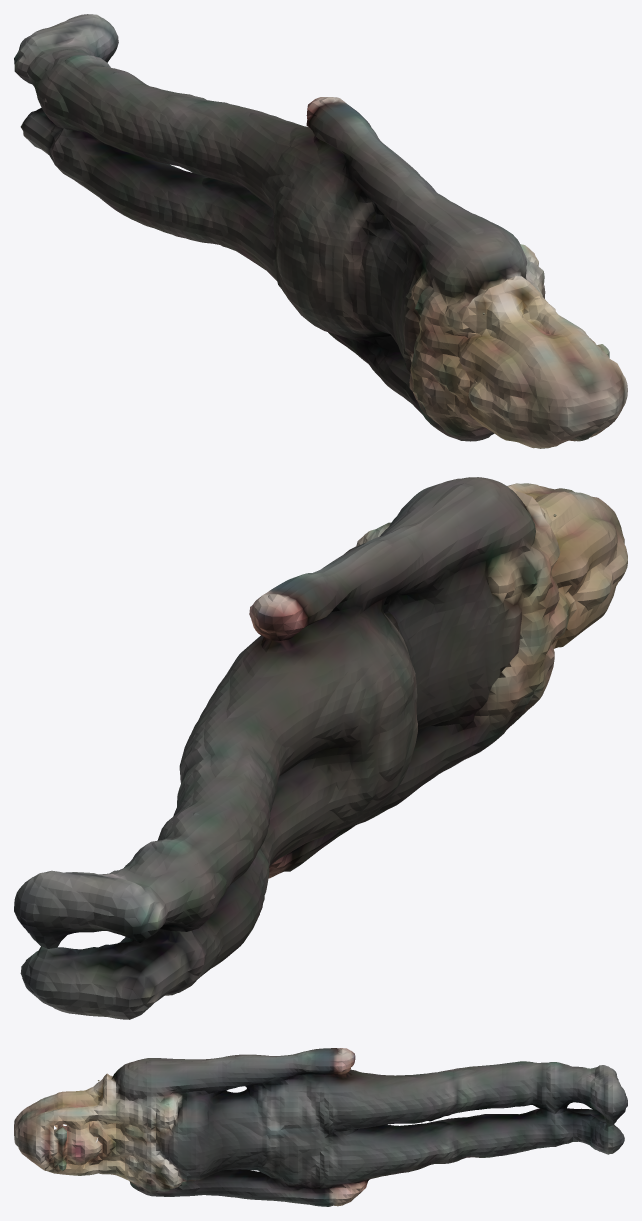
Rendered from avatar.glb.
3 renders of one model, top to bottom at view 1: azimuth 30°, elevation 25°; view 2: azimuth 150°, elevation 25°; view 3: azimuth 270°, elevation 25°, orthographic. The views are drawn at different scales.
Visible parts, largest first — view 1: world; view 2: world; view 3: world.
Part boxes in pixels (box(x1,y1,x2,y2)): world: box(14, 14, 627, 448); world: box(14, 477, 627, 1019); world: box(14, 1048, 627, 1206).
Size of the model in its own units: 0.2252 by 0.2557 by 0.9444.
